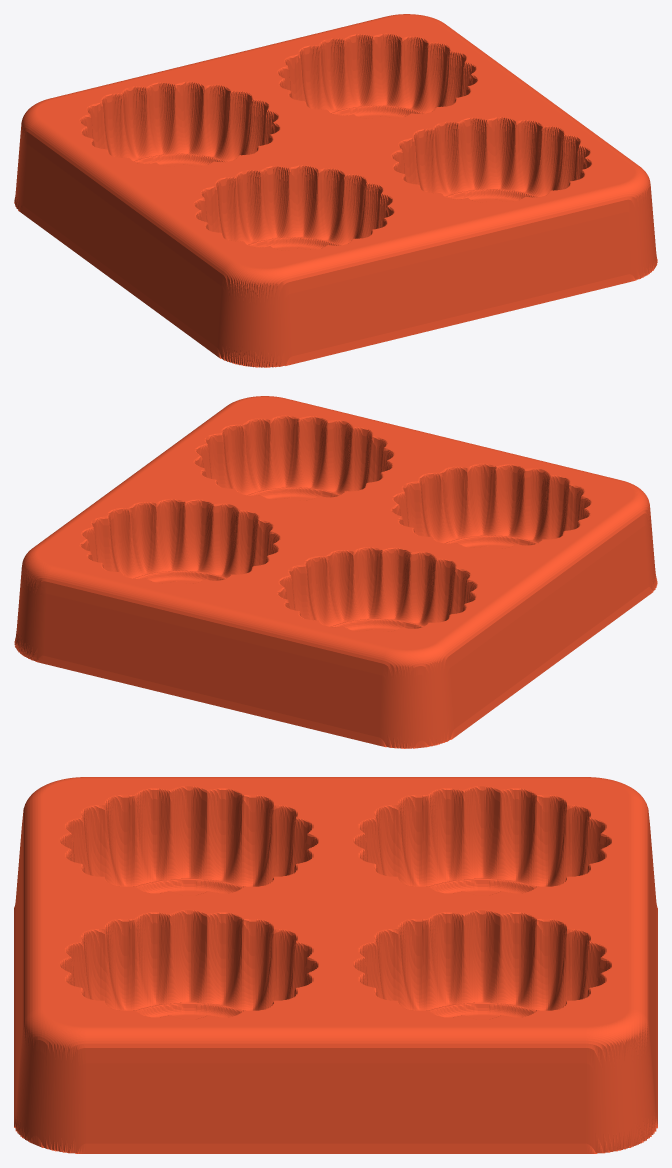
File: mold.glb
3 views of the same model, one above another, from view 1: azimuth 30°, elevation 25°; view 2: azimuth 150°, elevation 25°; view 3: azimuth 270°, elevation 25° (orthographic). The views are drawn at different scales.
Parts seen in each view (by area): view 1: geometry_0; view 2: geometry_0; view 3: geometry_0.
Boxes of the visible parts, left/top/right/bottom form: geometry_0: left=14, top=14, right=657, bottom=367; geometry_0: left=14, top=396, right=657, bottom=748; geometry_0: left=14, top=777, right=657, bottom=1153.
Size of the model in its own units: 0.0808 by 0.0159 by 0.0808.
